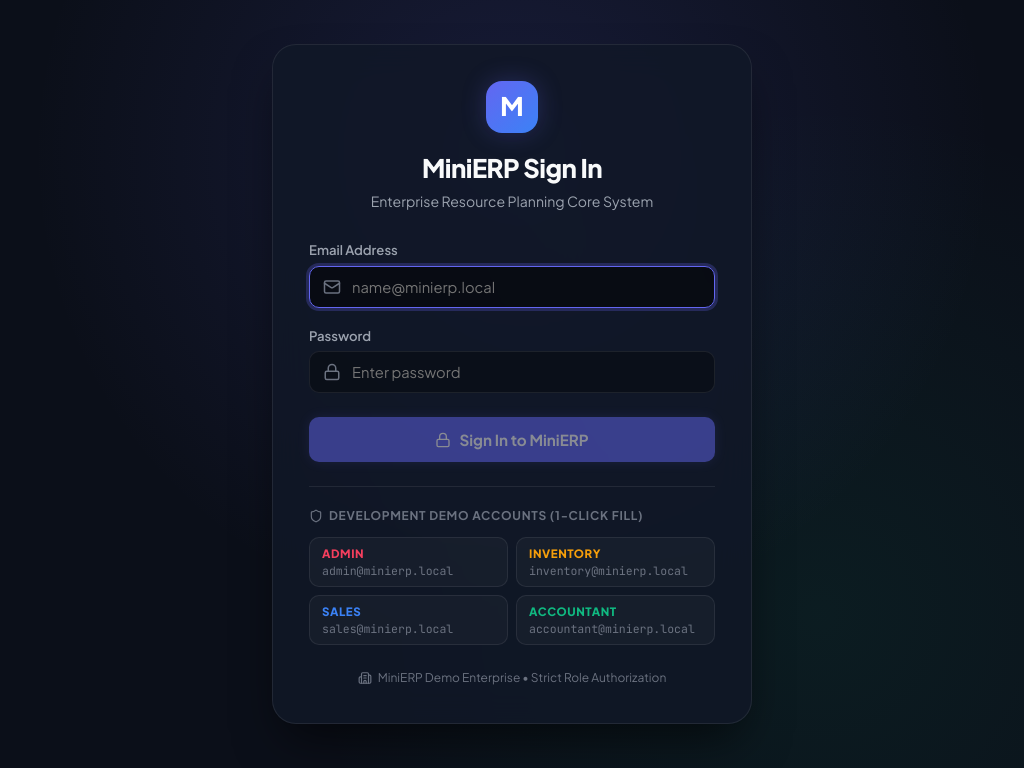
it: Frontend Authentication Flow › 4. Displays generic error banner on invalid login credentials
Type "admin@minierp.local" into the field labelled "Email Address".
click(512, 287); type("admin@minierp.local")  # box [309,266,715,308]
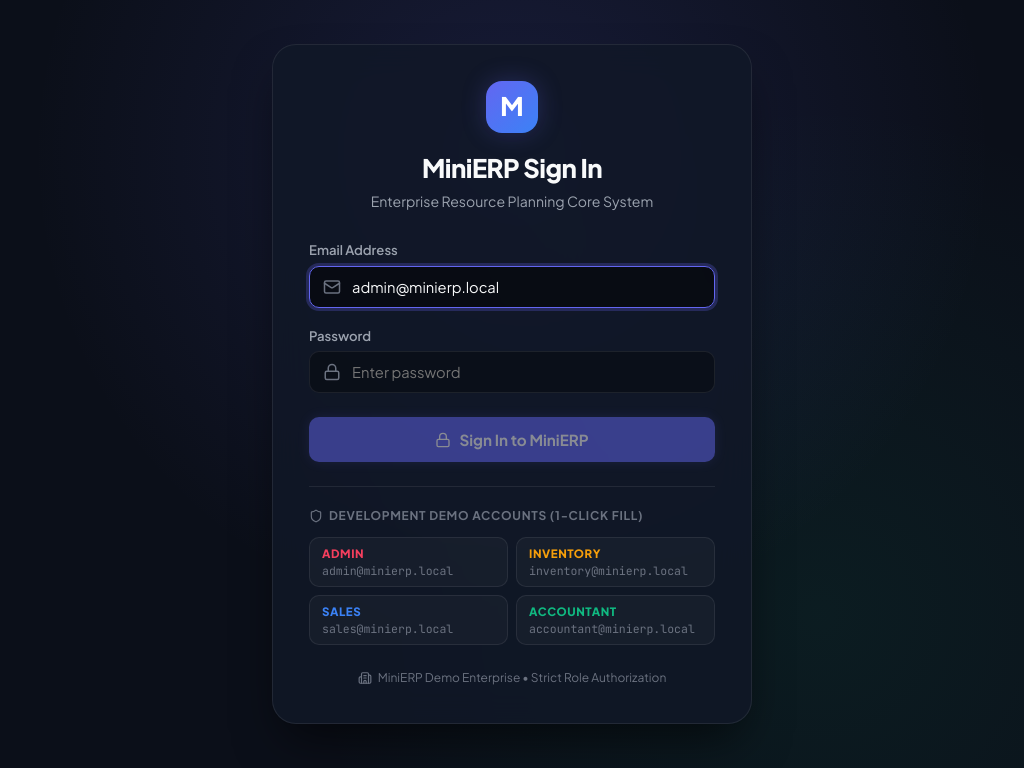
Type "WrongPassword!" into the password field labelled "Password".
click(512, 372); type("WrongPassword!")  # box [309,351,715,393]
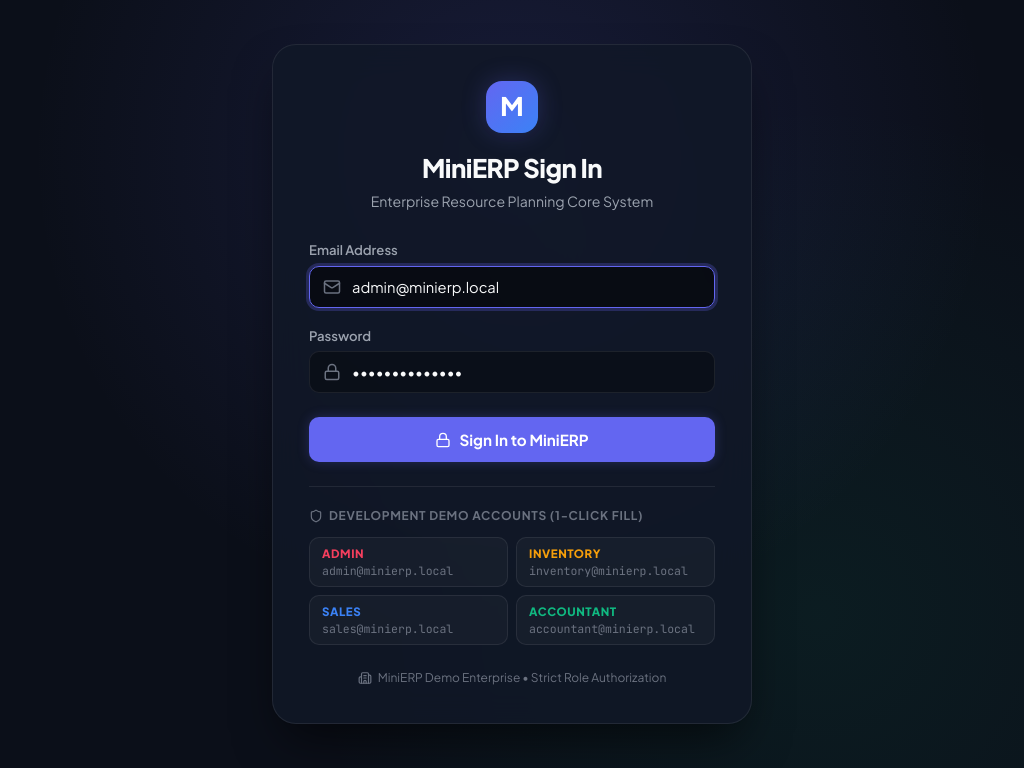
Click the button "Sign In to MiniERP".
click(512, 440)  # box [309,417,715,462]
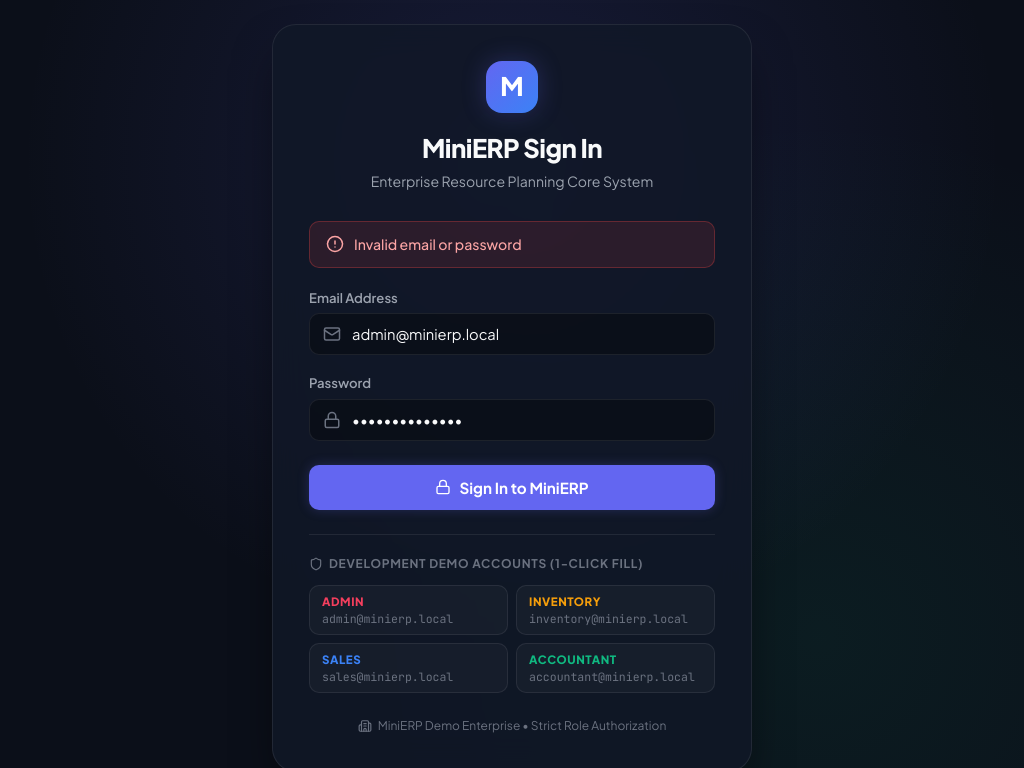
Expected: the field labelled "Email Address" is enabled, [309,313,715,355]
Expected: the message reads "Invalid email or password", [354,234,522,252]
